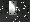person: (11, 2, 21, 16)
